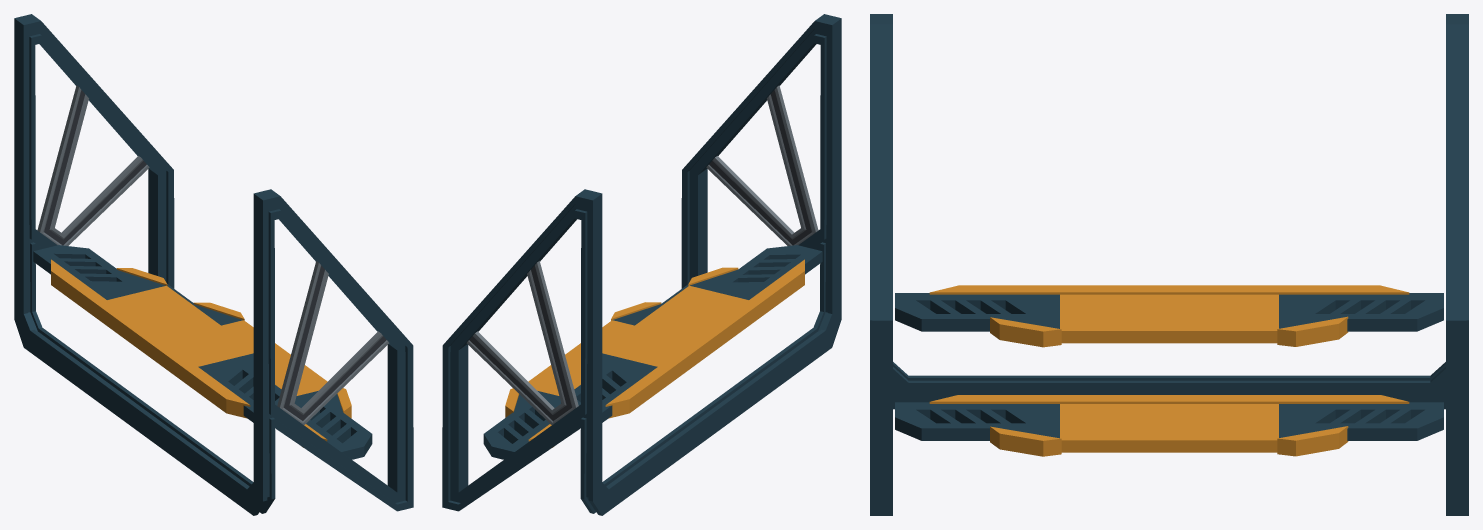
File: SM_Stairs_0.glb
The picture shows the model from 3 angles, left to right: view 1: azimuth 30°, elevation 25°; view 2: azimuth 150°, elevation 25°; view 3: azimuth 270°, elevation 25°; orthographic projection. The views are drawn at different scales.
Parts seen in each view (by area): view 1: SM_Stairs_0.5; view 2: SM_Stairs_0.5; view 3: SM_Stairs_0.5.
Part boxes in pixels (x1,y1,x2,y2): SM_Stairs_0.5: (14, 14, 413, 515); SM_Stairs_0.5: (442, 14, 841, 515); SM_Stairs_0.5: (870, 14, 1468, 515).
Bounding box in the file's own units: 0.7843 × 1.66 × 2.18.
Materials: 1 (1 with a texture image).
